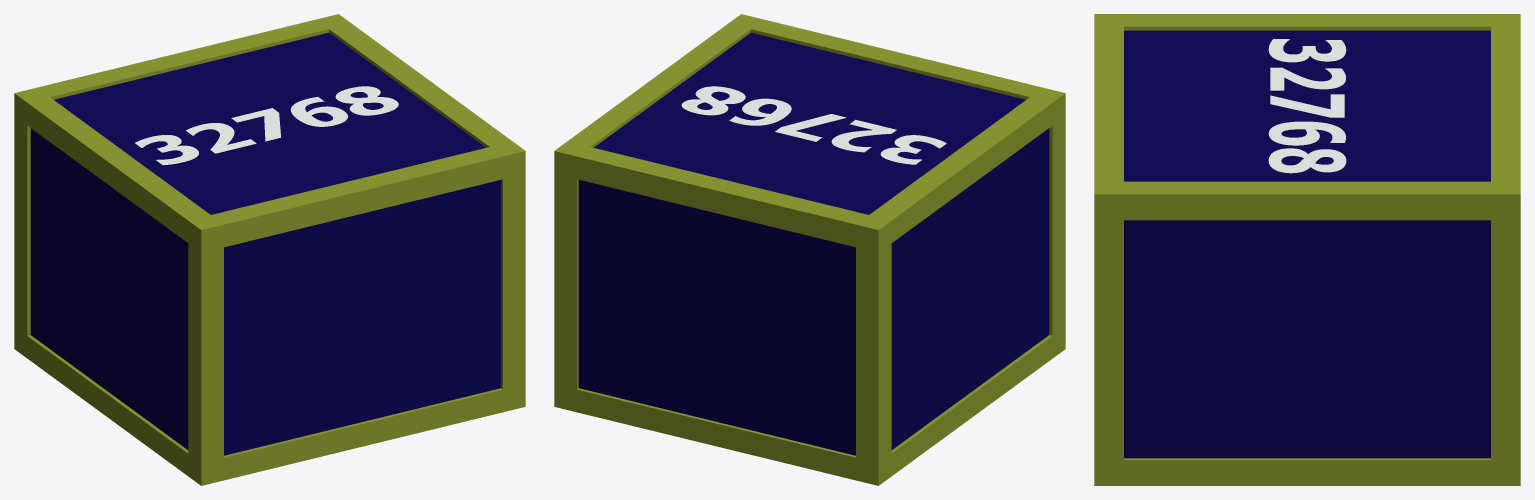
Rendered from 32768Prefab.fbx.
The picture shows the model from 3 angles, left to right: view 1: azimuth 30°, elevation 25°; view 2: azimuth 150°, elevation 25°; view 3: azimuth 270°, elevation 25°; orthographic projection. The views are drawn at different scales.
Visible parts, largest first — view 1: Text.014; view 2: Text.014; view 3: Text.014.
Boxes of the visible parts, x1,y1,x2,y2 form: Text.014: (14,14,525,485); Text.014: (554,14,1065,485); Text.014: (1094,14,1520,485).
Bounding box in the file's own units: 194 × 146 × 194.
